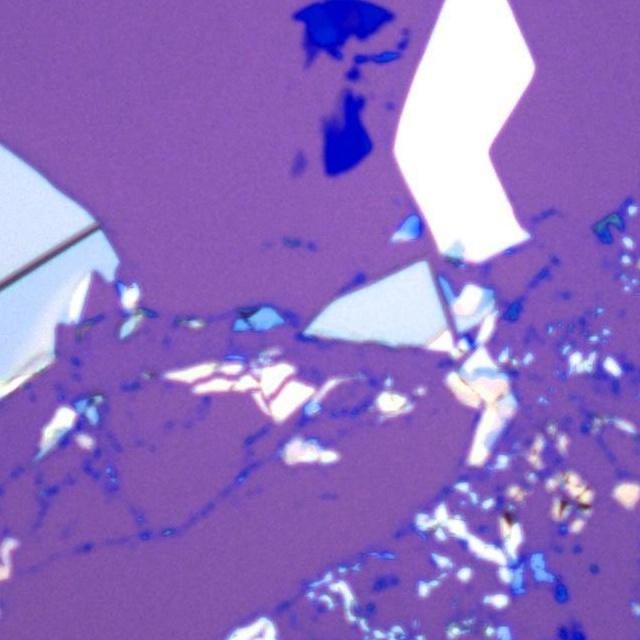monolayer-eWW4: (288, 152, 308, 180), (332, 89, 344, 122)
